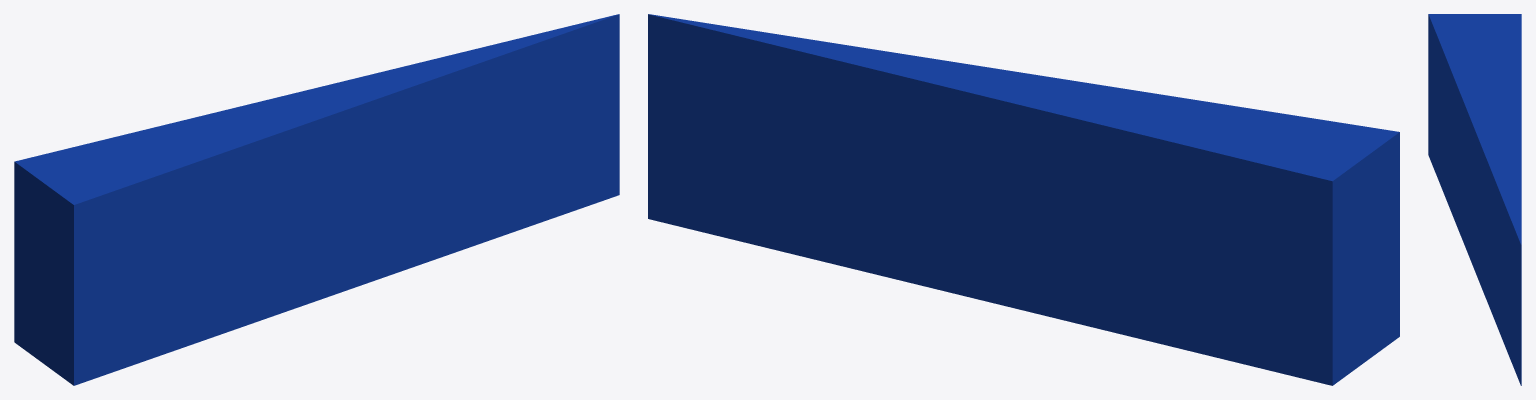
File: robocon_014.obj
The picture shows the model from 3 angles, left to right: view 1: azimuth 30°, elevation 25°; view 2: azimuth 150°, elevation 25°; view 3: azimuth 270°, elevation 25°; orthographic projection. The views are drawn at different scales.
Size of the model in its own units: 3.5 by 1 by 0.5966.
